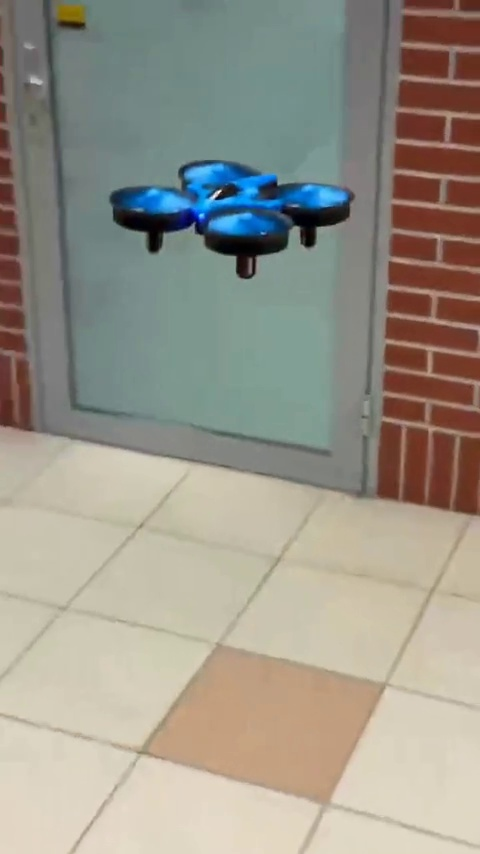drone: (101, 151, 352, 282)
